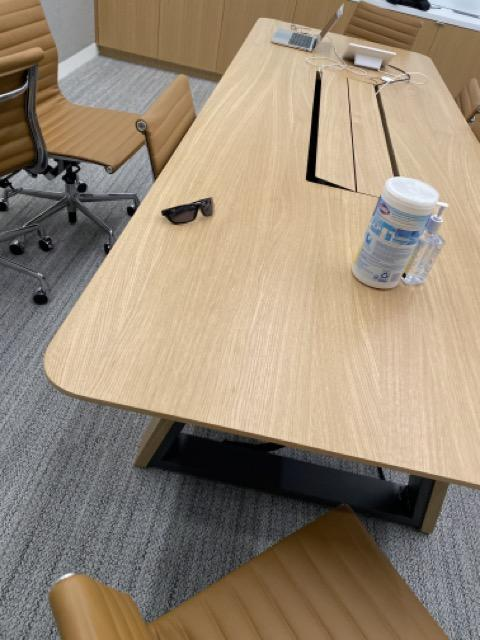Sunglasses: (162, 194, 216, 226)
